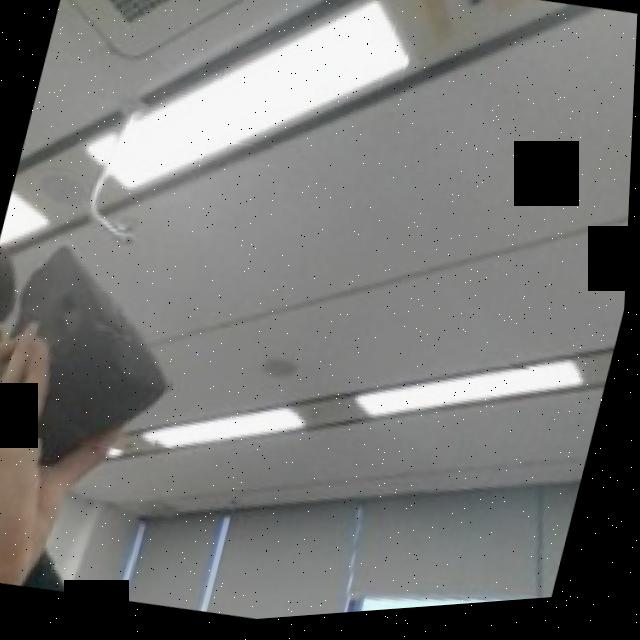shoe: (0, 228, 210, 467)
